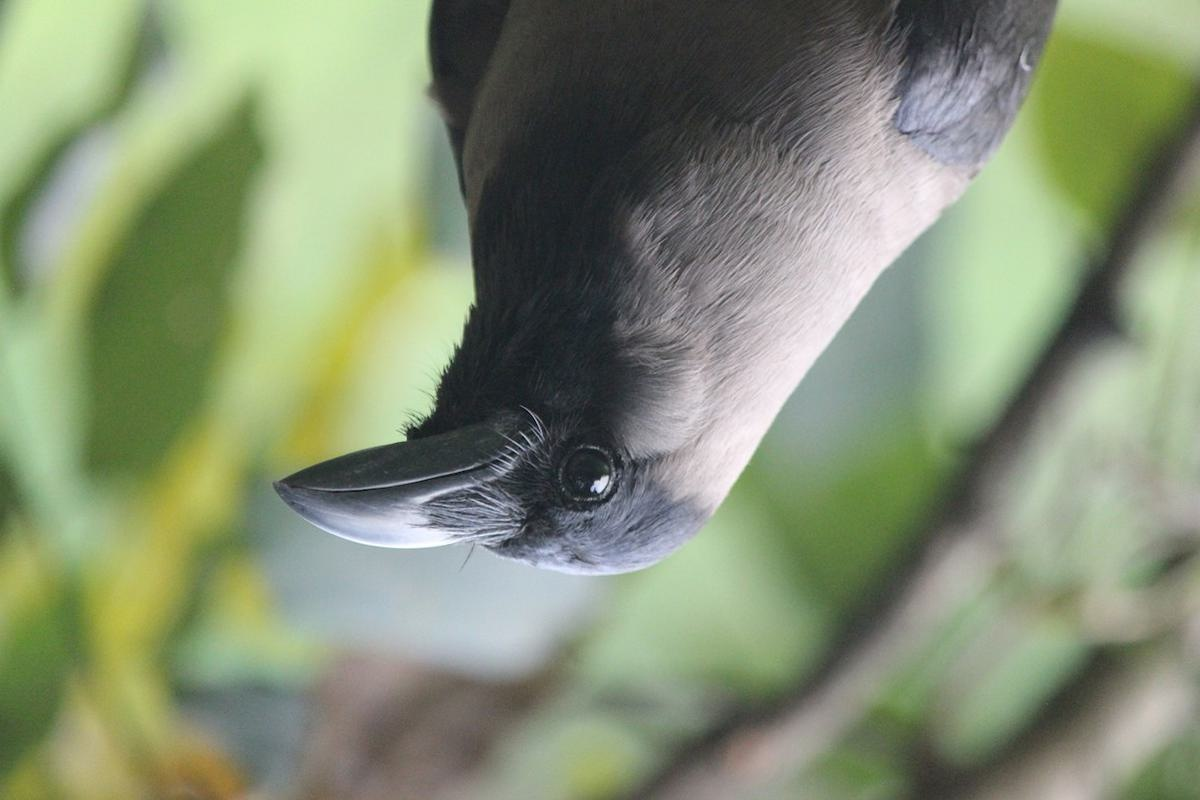crow: (261, 1, 1076, 589)
